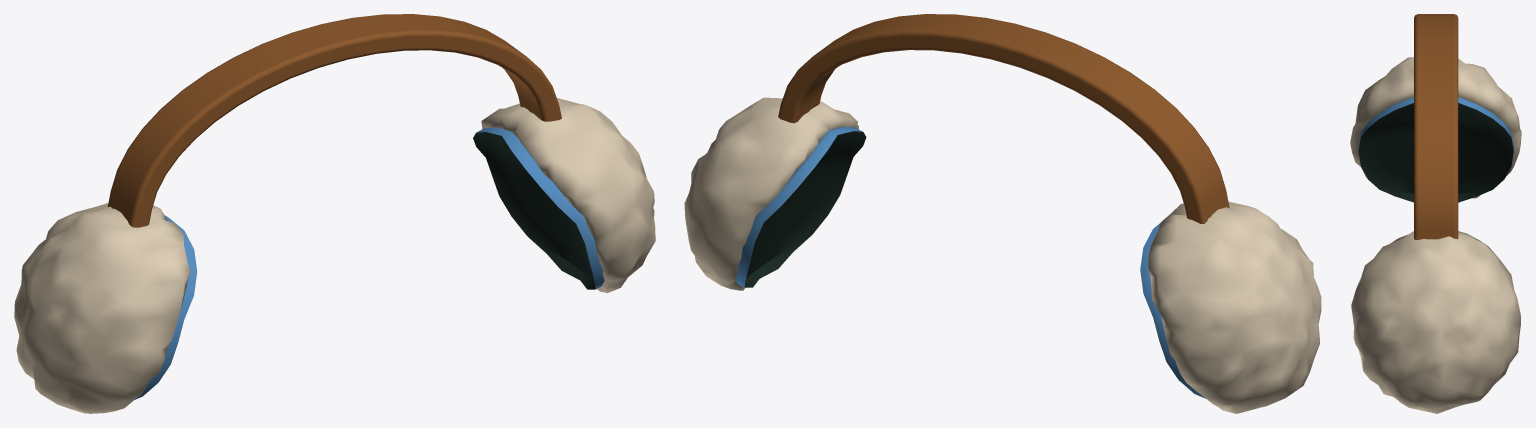
File: Cosmetic_Earmuffs.glb
The picture shows the model from 3 angles, left to right: view 1: azimuth 30°, elevation 25°; view 2: azimuth 150°, elevation 25°; view 3: azimuth 270°, elevation 25°; orthographic projection. The views are drawn at different scales.
Visible parts, largest first — view 1: Earmuffs; view 2: Earmuffs; view 3: Earmuffs.
Part boxes in pixels (left/top/right/bottom): Earmuffs: left=14, top=14, right=655, bottom=413; Earmuffs: left=684, top=14, right=1321, bottom=413; Earmuffs: left=1350, top=14, right=1521, bottom=413.
Bounding box in the file's own units: 1.54 × 0.7566 × 0.4476.
